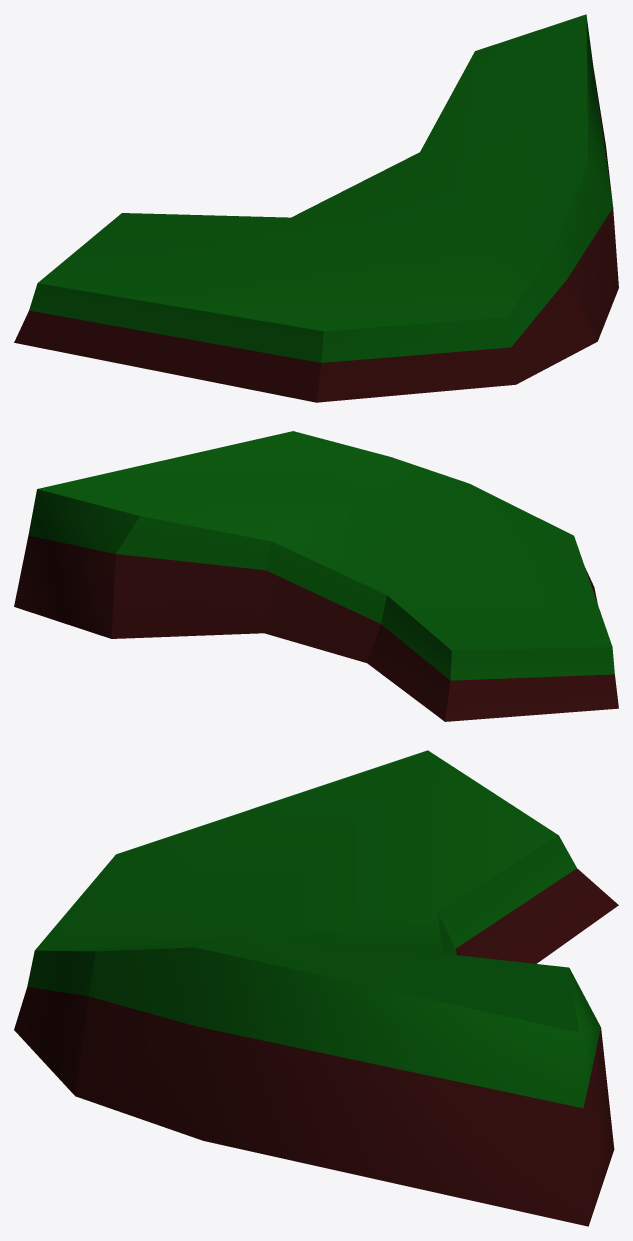
Rendered from Land 5.FBX.
3 renders of one model, top to bottom at view 1: azimuth 30°, elevation 25°; view 2: azimuth 150°, elevation 25°; view 3: azimuth 270°, elevation 25°, orthographic. The views are drawn at different scales.
Parts seen in each view (by area): view 1: Box001; view 2: Box001; view 3: Box001.
Boxes of the visible parts, bbox=[...] form: Box001: bbox=[14, 14, 618, 402]; Box001: bbox=[14, 431, 618, 721]; Box001: bbox=[14, 750, 618, 1226].
Bounding box in the file's own units: 9659 × 1990 × 6074.
